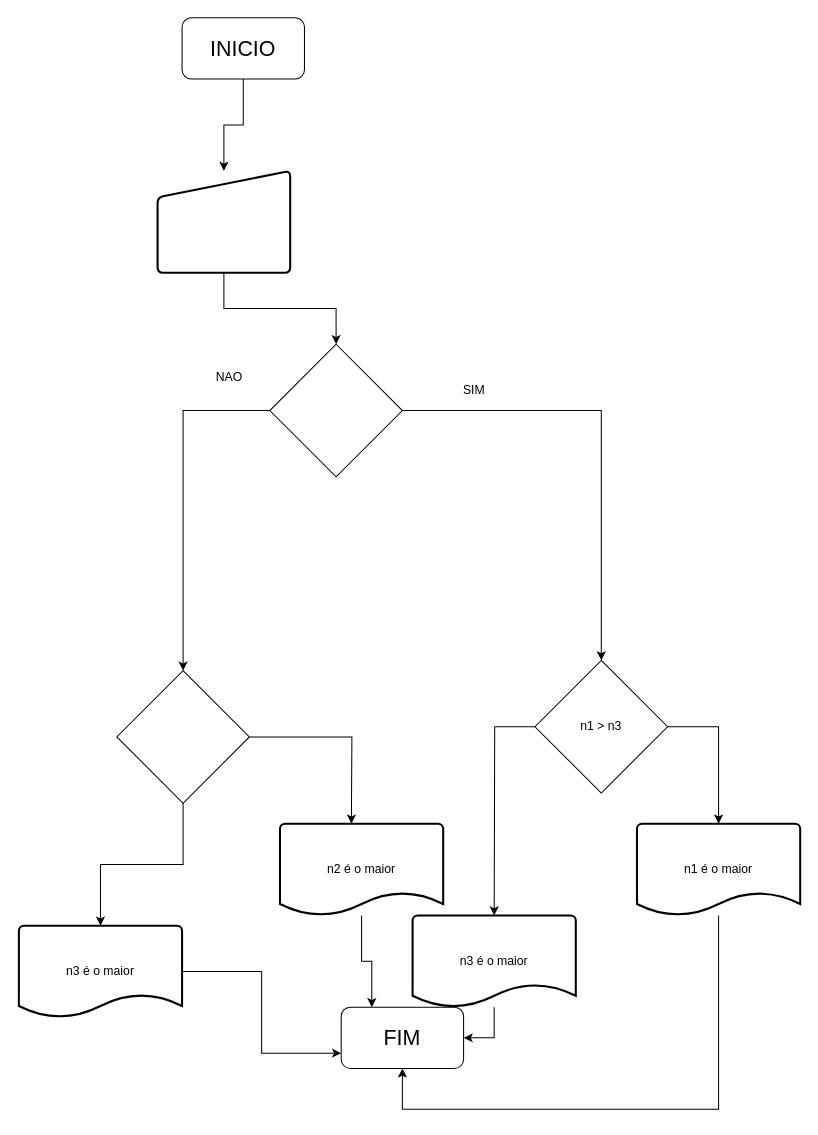
The diagram is 818 pixels wide and 1135 high, and some of its shapes have lost their labels. The centre of each missing label's shape, as x and y in pixels:
n1 = n2 = n3 =: point 223,221
n1 > n2: point 335,410
n2 > n3: point 182,736
